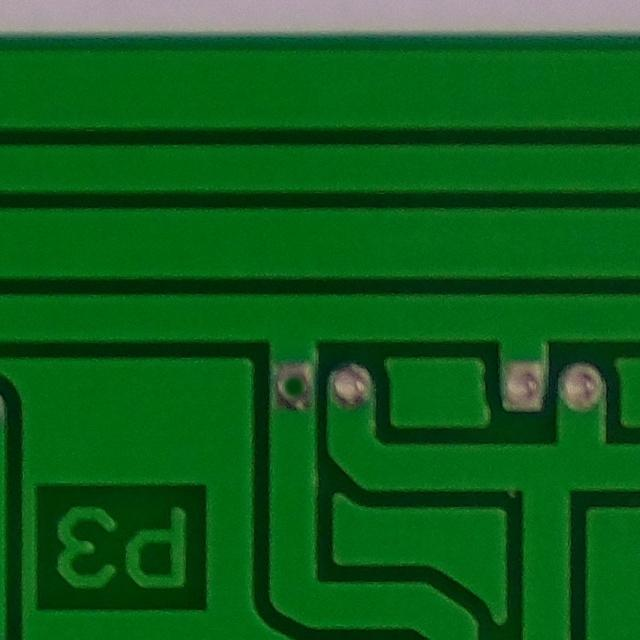missing_hole: (268, 357, 326, 417)
